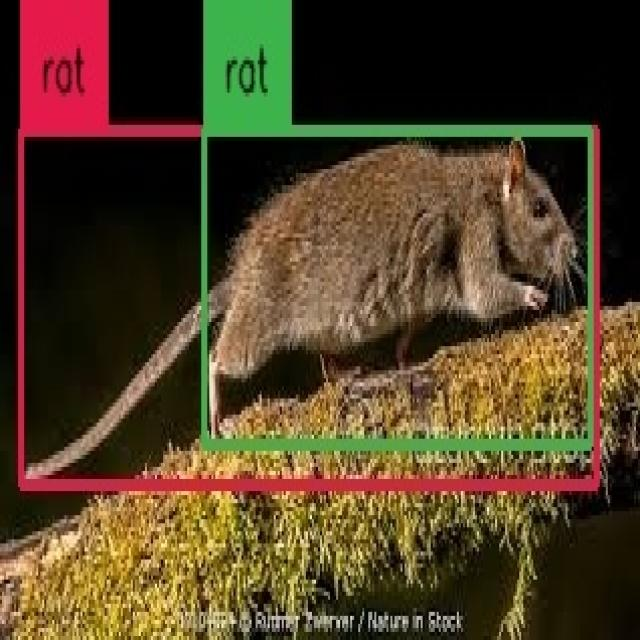rat: (22, 131, 596, 485), (204, 131, 591, 445)
